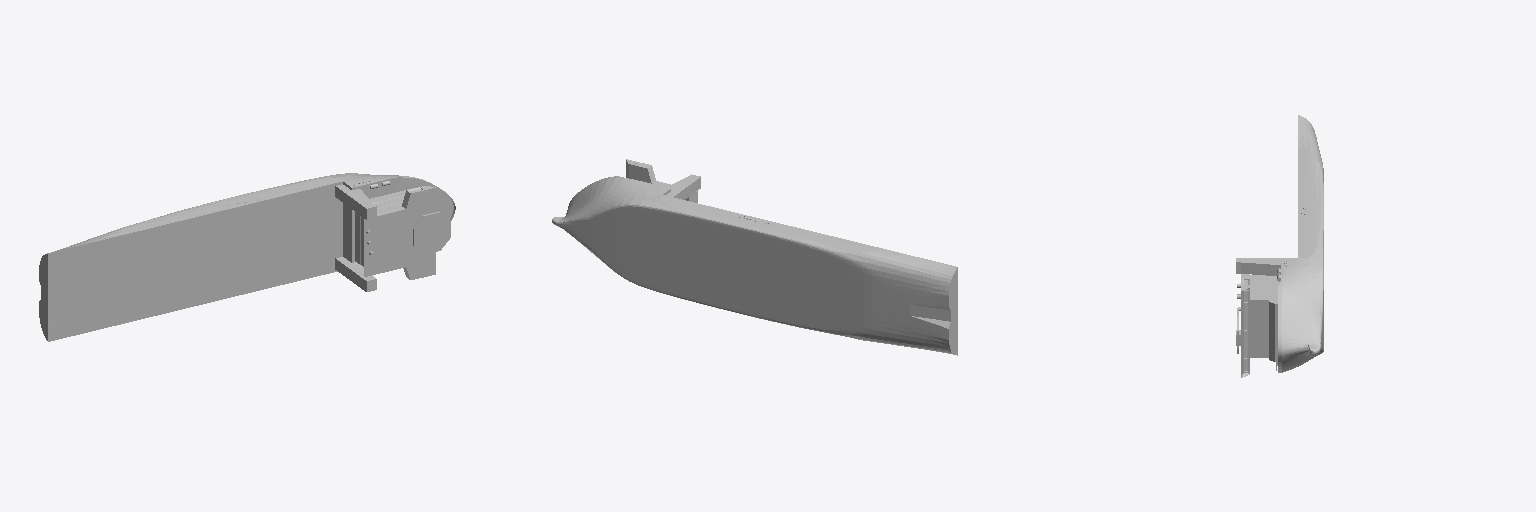
File: visual vessel cheetah.obj
The picture shows the model from 3 angles: view 1: azimuth 30°, elevation 25°; view 2: azimuth 150°, elevation 25°; view 3: azimuth 270°, elevation 25°; orthographic projection.
Parts seen in each view (by area): view 1: Hull_Cube, Bridge_Cube.001, Helideck_Cube.004, Exhaust_Cube.005, Exhaust.001_Cube.006; view 2: Hull_Cube, Bridge_Cube.001, Exhaust_Cube.005; view 3: Hull_Cube, Bridge_Cube.001, Exhaust_Cube.005.
Boxes of the visible parts, x1=… form: Hull_Cube: x1=39, y1=173, x2=455, y2=341; Bridge_Cube.001: x1=355, y1=186, x2=435, y2=279; Helideck_Cube.004: x1=413, y1=211, x2=450, y2=254; Exhaust_Cube.005: x1=335, y1=184, x2=376, y2=219; Exhaust.001_Cube.006: x1=335, y1=257, x2=376, y2=291; Hull_Cube: x1=552, y1=176, x2=957, y2=355; Bridge_Cube.001: x1=626, y1=159, x2=697, y2=202; Exhaust_Cube.005: x1=665, y1=174, x2=700, y2=199; Hull_Cube: x1=1278, y1=115, x2=1323, y2=372; Bridge_Cube.001: x1=1241, y1=274, x2=1280, y2=377; Exhaust_Cube.005: x1=1236, y1=258, x2=1280, y2=275.
Size of the model in its own units: 215 by 46.13 by 41.14.